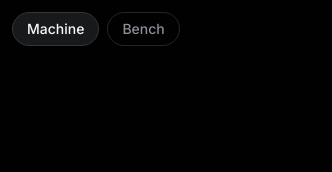
Test case: Chip › ChipGroup behaves as a radio group
expect the element named "Variant" is shown: met, box [12,12,180,46]
expect the radio button labelled "Machine" is checked: met, box [12,12,99,46]
Click the radio button labelled "Bench": (144, 29) [107,12,180,46]
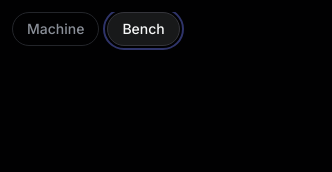
expect the radio button labelled "Bench" is checked: met, box [107,12,180,46]
Press Arrowleft
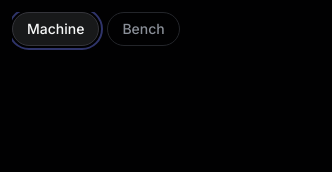
expect the radio button labelled "Machine" is checked: met, box [12,12,99,46]
